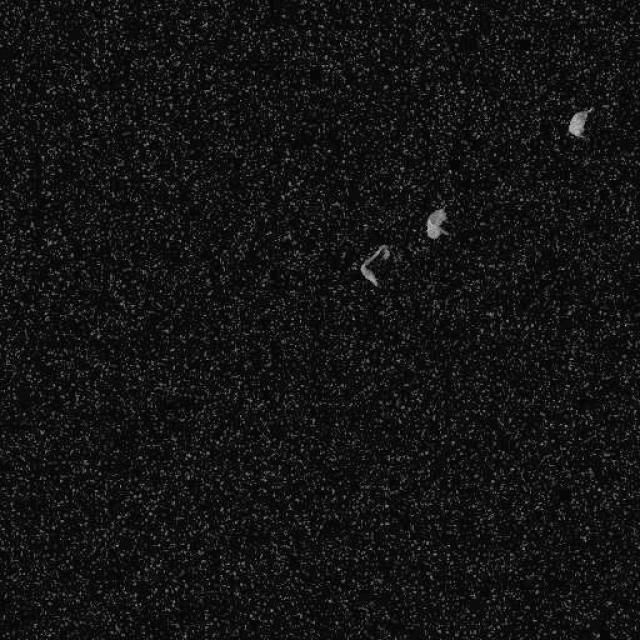D2: (359, 242, 391, 288), (425, 206, 449, 240), (566, 108, 590, 138)
